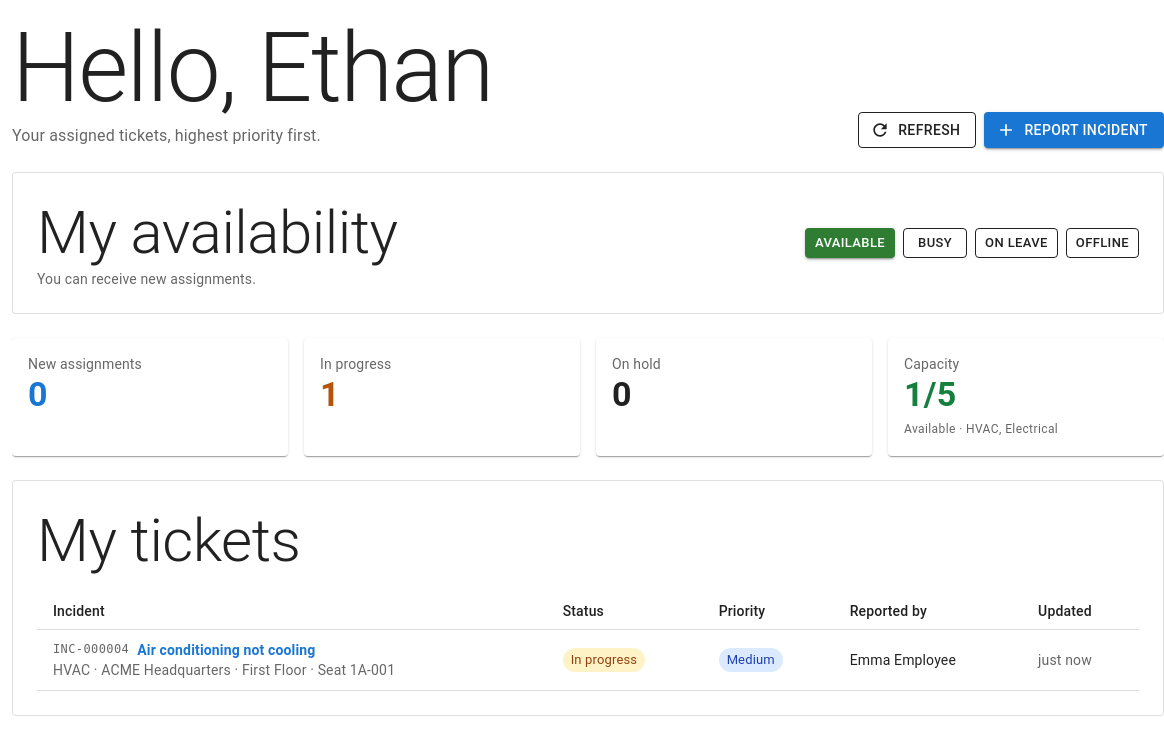
Scenario: Dashboard › engineer: capacity and availability switch
Expected: the text "1/5" is shown, [904,374,956,414]
Expected: the text "Capacity" shows "Available · HVAC, Electrical", [904,422,1058,436]
Click the radio button labelled "On leave" at (1016, 243), box [975,228,1058,258]
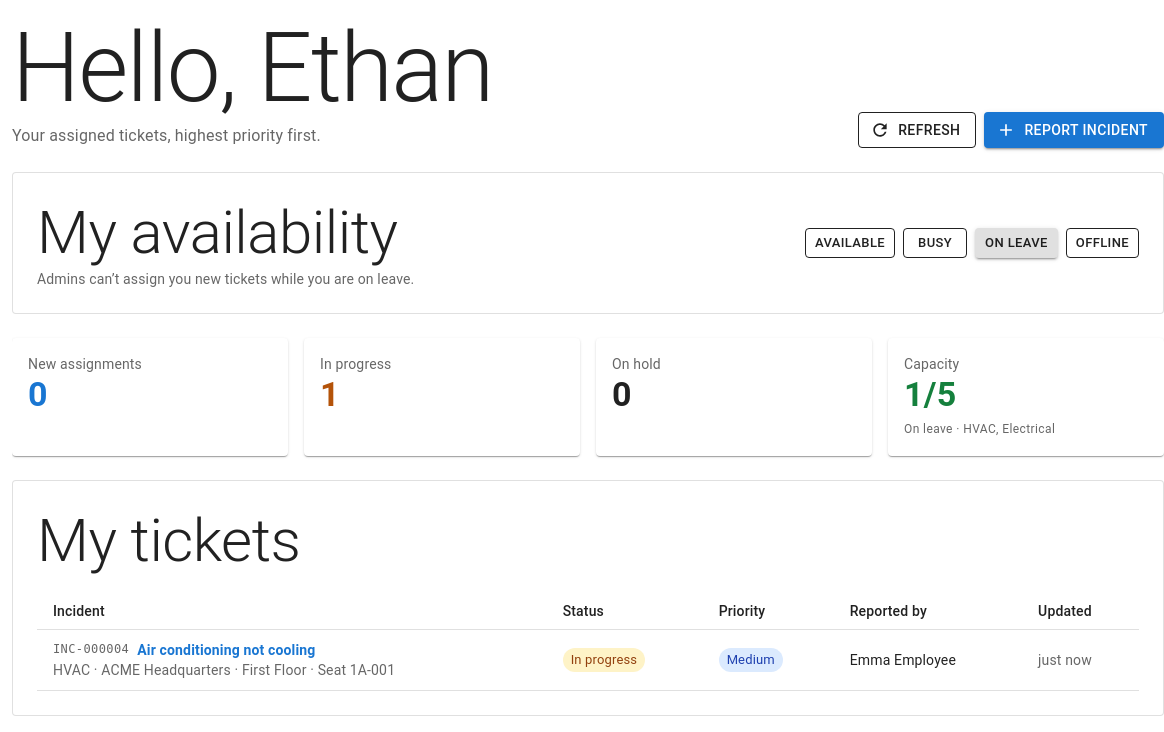
Expected: the text "Admins can’t assign you new tickets while you are on leave." is shown, [37,269,414,289]
